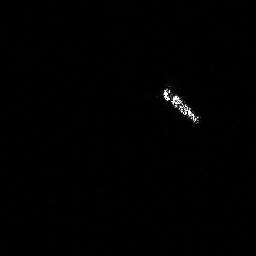ship: (158, 82, 203, 129)
